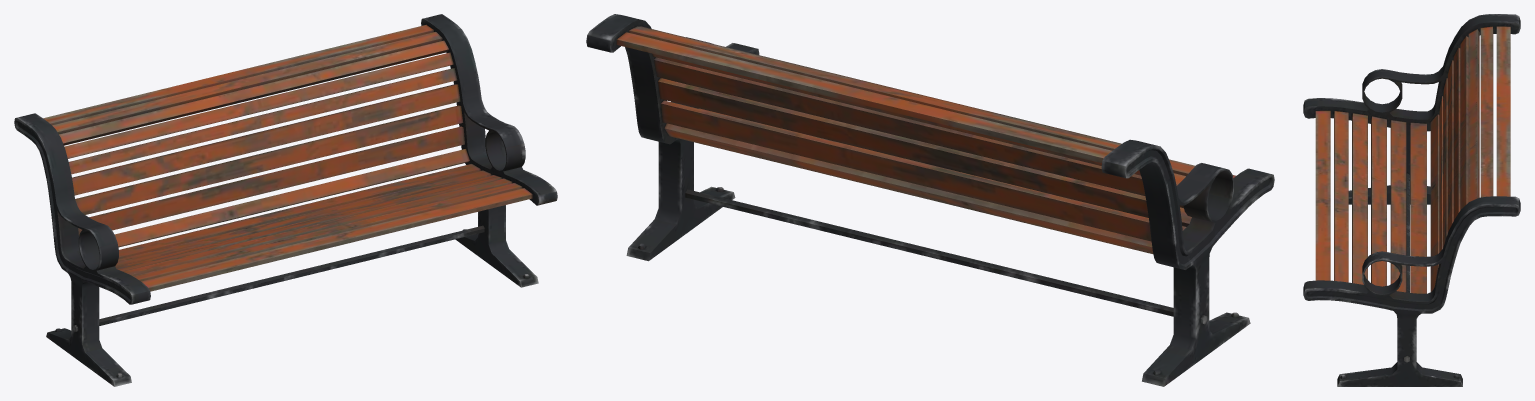
File: bench.glb
The picture shows the model from 3 angles, left to right: view 1: azimuth 30°, elevation 25°; view 2: azimuth 150°, elevation 25°; view 3: azimuth 270°, elevation 25°; orthographic projection. The views are drawn at different scales.
Parts seen in each view (by area): view 1: Bench_Bench_0; view 2: Bench_Bench_0; view 3: Bench_Bench_0.
Boxes of the visible parts, x1,y1,x2,y2 form: Bench_Bench_0: [14, 14, 557, 386]; Bench_Bench_0: [586, 14, 1274, 386]; Bench_Bench_0: [1303, 14, 1520, 386].
Size of the model in its own units: 0.7784 by 0.345 by 0.3719.
Materials: 1 (1 with a texture image).
